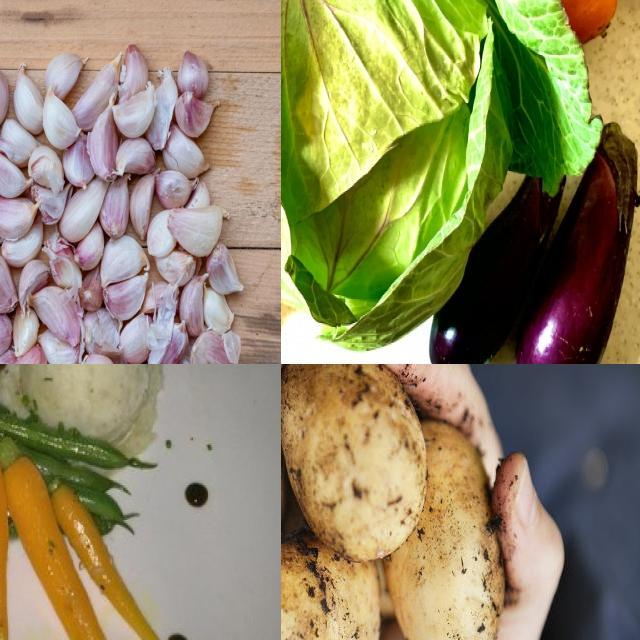cabbage: (282, 1, 600, 361)
carrot: (1, 430, 115, 640), (53, 479, 194, 640), (1, 437, 15, 640)
eggplant: (515, 119, 640, 365), (429, 164, 568, 365)
garlic: (1, 52, 240, 365)
potato: (282, 365, 426, 563), (386, 414, 504, 640), (282, 544, 383, 640)
